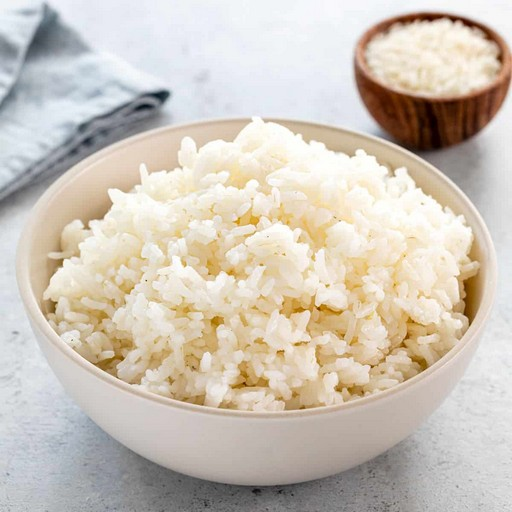rice: (142, 189, 414, 350)
